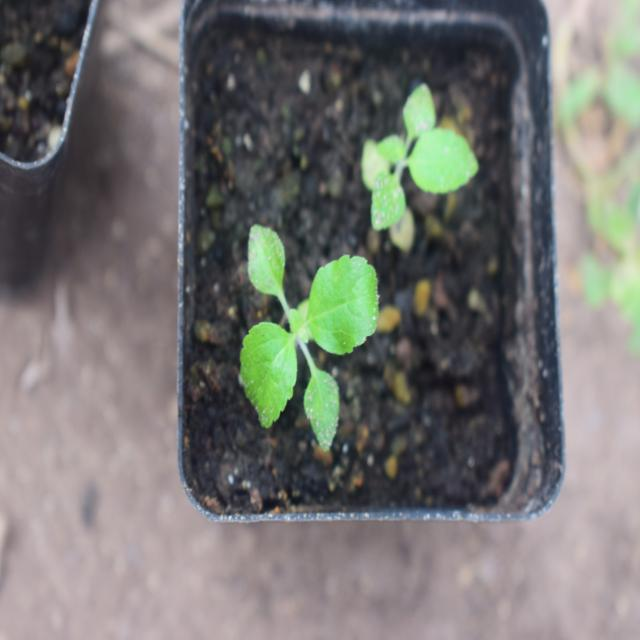billygoat_weed: (236, 225, 391, 458), (316, 88, 482, 254)
